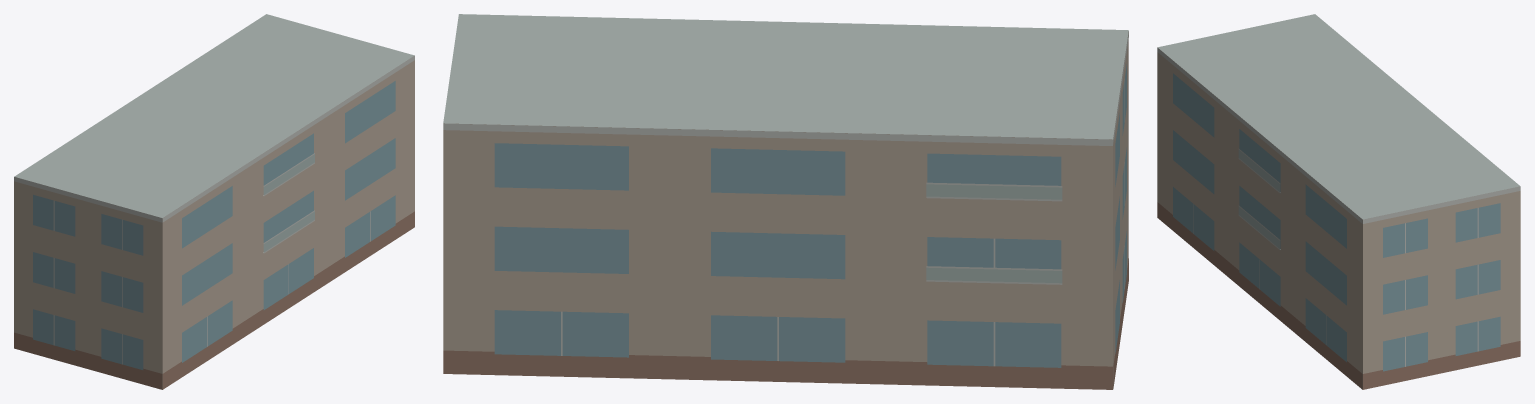
File: survey-upis-32838462.glb
The picture shows the model from 3 angles, left to right: view 1: azimuth 30°, elevation 25°; view 2: azimuth 150°, elevation 25°; view 3: azimuth 270°, elevation 25°; orthographic projection. The views are drawn at different scales.
Visible parts, largest first — view 1: survey-upis-32838462.tmp; view 2: survey-upis-32838462.tmp; view 3: survey-upis-32838462.tmp.
Boxes of the visible parts, <box> form: survey-upis-32838462.tmp: <box>14,14,414,389</box>; survey-upis-32838462.tmp: <box>443,14,1128,389</box>; survey-upis-32838462.tmp: <box>1157,14,1520,389</box>.
Size of the model in its own units: 23.69 by 9.15 by 17.7.
